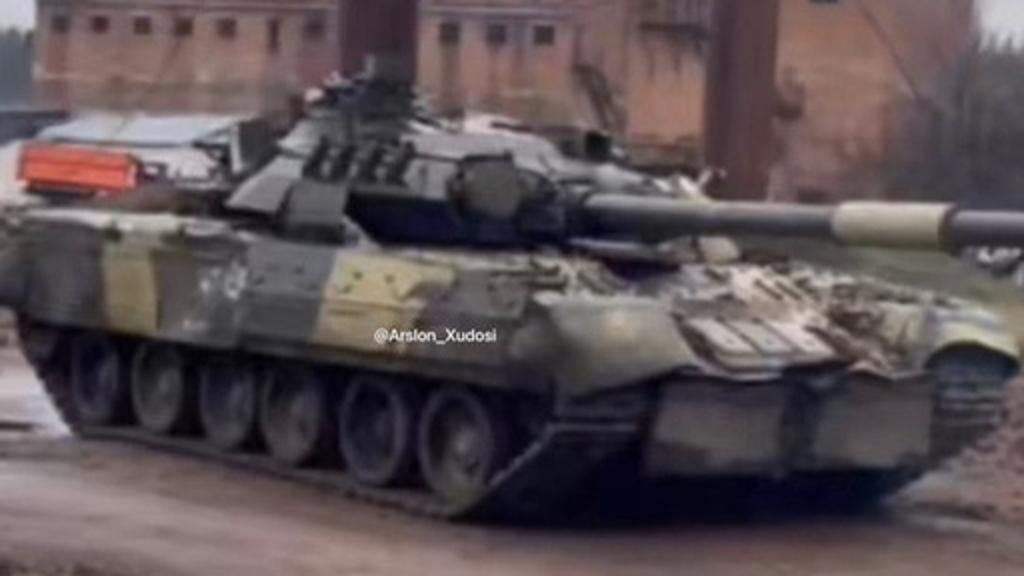TANK: (0, 64, 1014, 524)
